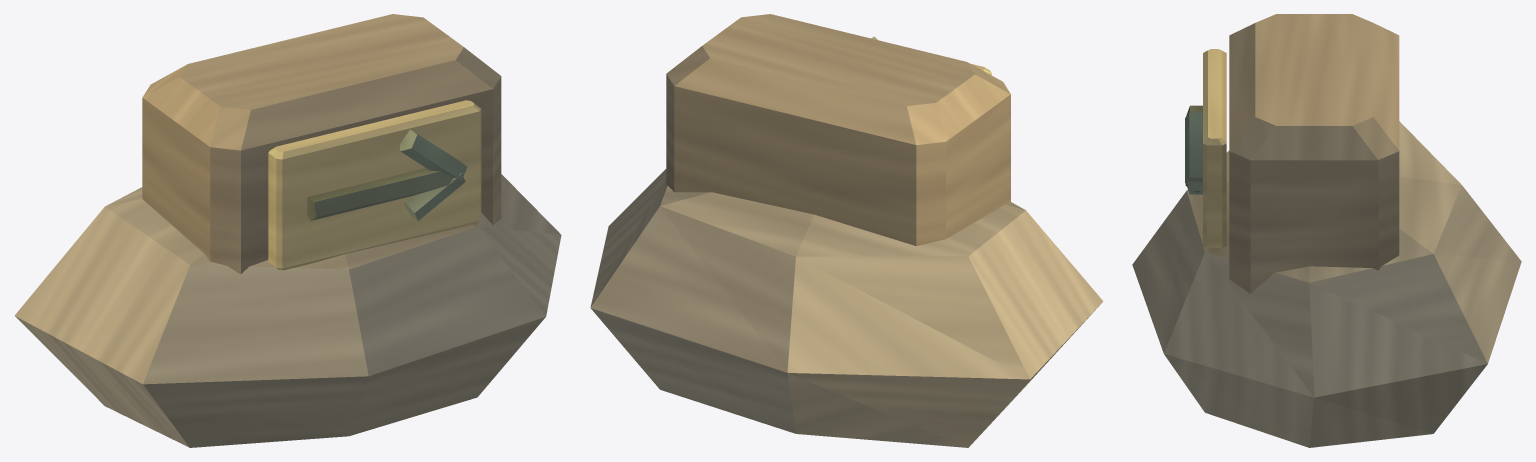
File: watch_trace.glb
3 renders of one model, left to right at view 1: azimuth 30°, elevation 25°; view 2: azimuth 150°, elevation 25°; view 3: azimuth 270°, elevation 25°, orthographic. The views are drawn at different scales.
Parts seen in each view (by area): view 1: Wegzeichen · eingeritzte Tafel; view 2: Wegzeichen · eingeritzte Tafel; view 3: Wegzeichen · eingeritzte Tafel.
Part boxes in pixels (bbox=[...]): Wegzeichen · eingeritzte Tafel: bbox=[14, 14, 561, 447]; Wegzeichen · eingeritzte Tafel: bbox=[590, 14, 1103, 447]; Wegzeichen · eingeritzte Tafel: bbox=[1132, 14, 1521, 447].
Size of the model in its own units: 0.9144 by 0.64 by 0.6647.
2 materials, 2 textured.
